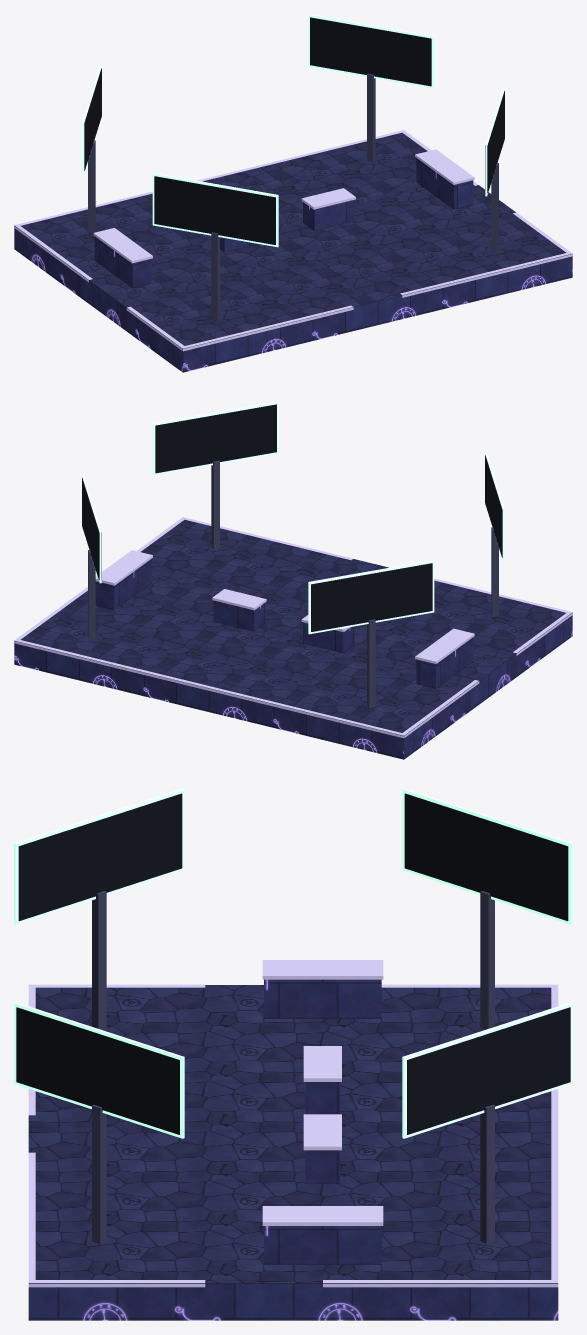
The model's file is skyreach_nexus_garden_v35.glb.
3 views of the same model, one above another, from view 1: azimuth 30°, elevation 25°; view 2: azimuth 150°, elevation 25°; view 3: azimuth 270°, elevation 25° (orthographic). The views are drawn at different scales.
Visible parts, largest first — view 1: skin; view 2: skin; view 3: skin.
Part boxes in pixels (left/top/right/bottom): skin: left=14, top=14, right=572, bottom=372; skin: left=14, top=401, right=572, bottom=759; skin: left=14, top=788, right=572, bottom=1320.
Size of the model in its own units: 24.02 by 9.32 by 19.
Materials: 7 (3 with a texture image).
